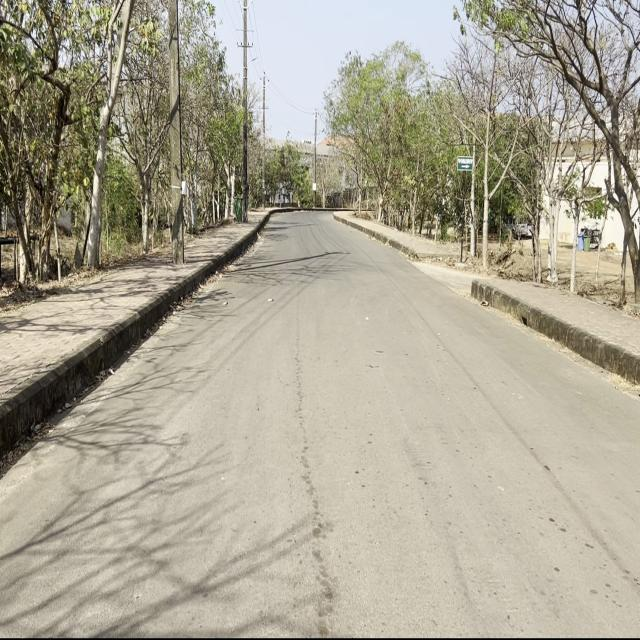Road: (1, 212, 638, 632)
